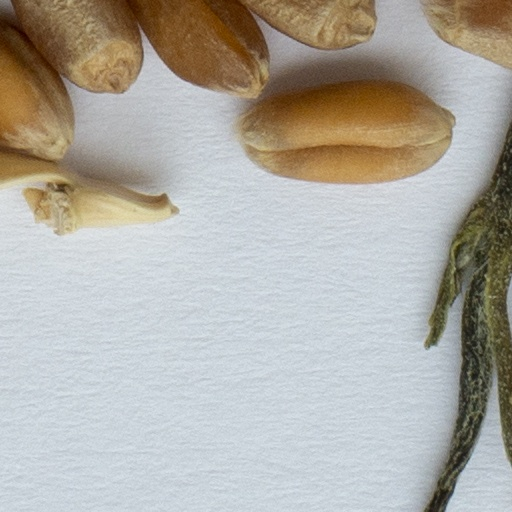Peel-poly: (422, 120, 511, 511), (0, 145, 181, 235)
Wheat-grain-damaged-poly: (420, 0, 511, 72)
Wheat-grain-poly: (234, 75, 459, 189)
